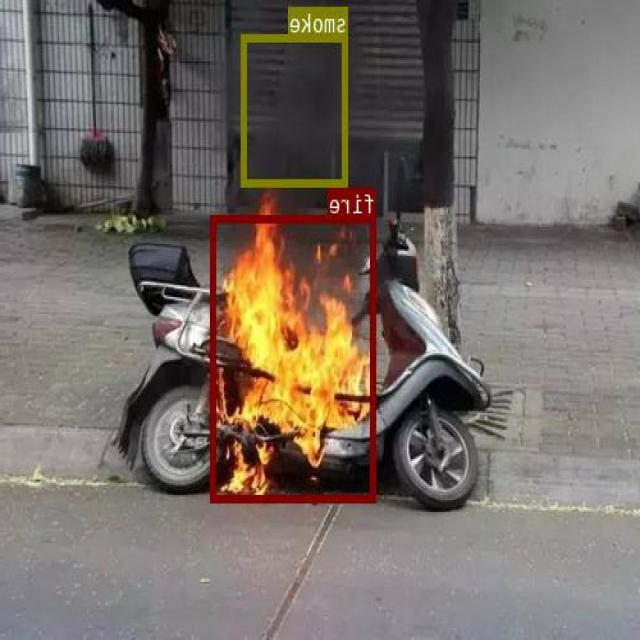fire: (212, 214, 376, 502)
smoke: (243, 34, 348, 185)
